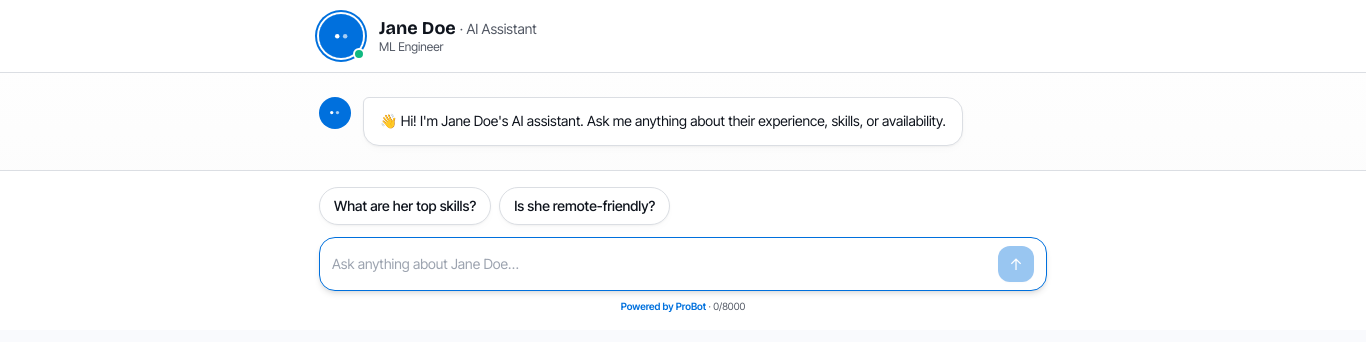
ChatWindow › falls back to a generic error message on a non-2xx / non-429 response
In the text box: (661, 264) left=332, top=246, right=990, bottom=282, type "go"
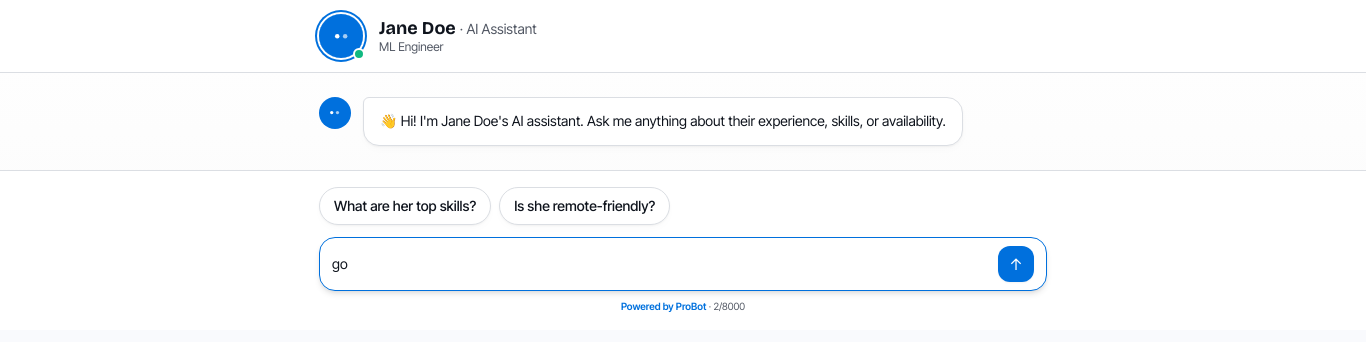
Click the button named "send message": (1016, 264) left=998, top=246, right=1034, bottom=282
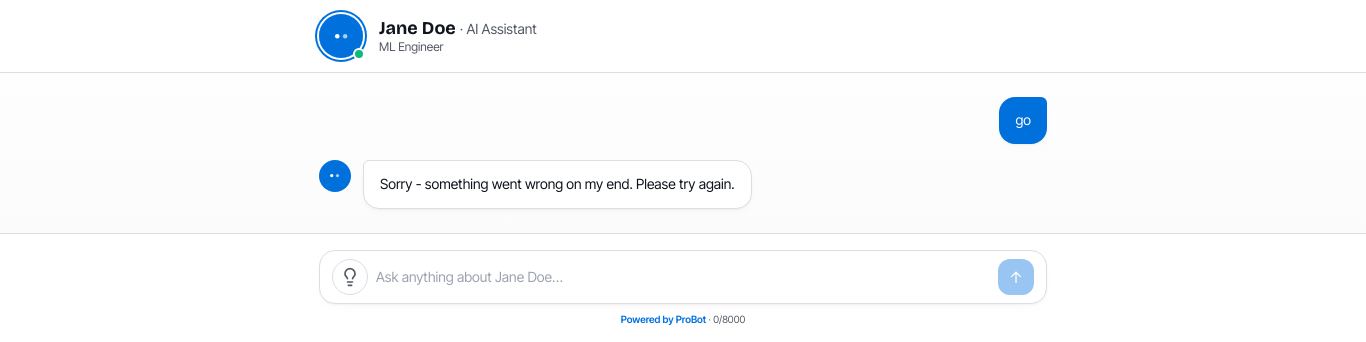
Expected: the text "Sorry - something went wrong on my end. Please try again." is shown, left=380, top=173, right=735, bottom=196
